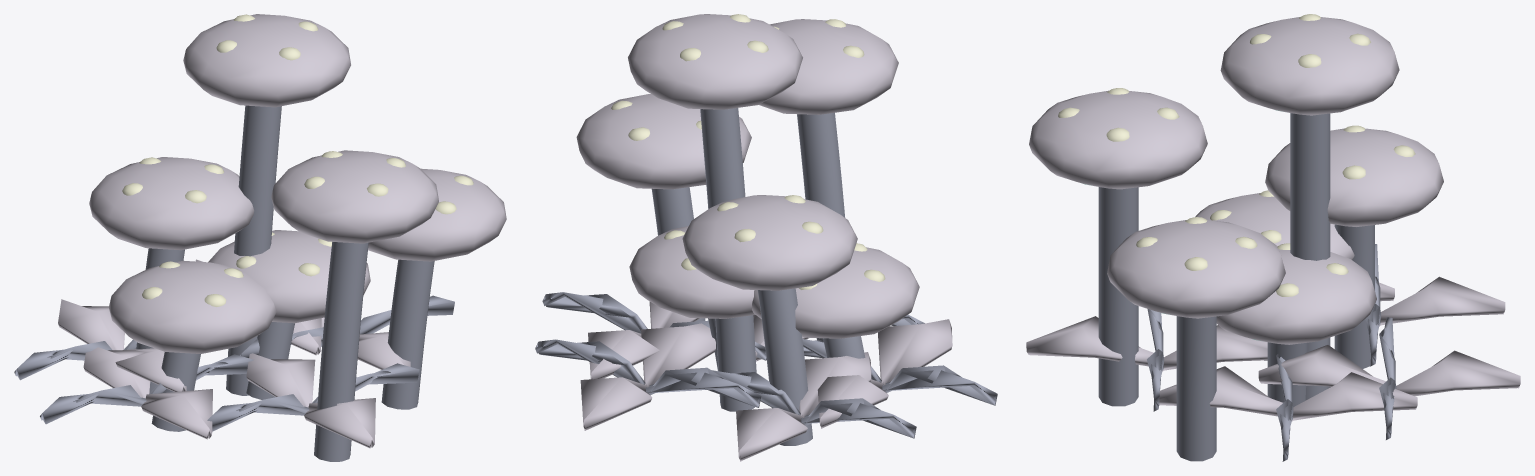
Rendered from bio_spore_fungus_05_far.glb.
3 renders of one model, left to right at view 1: azimuth 30°, elevation 25°; view 2: azimuth 150°, elevation 25°; view 3: azimuth 270°, elevation 25°, orthographic. The views are drawn at different scales.
Visible parts, largest first — view 1: Thick umbrella cap.002, Thick umbrella cap.003, Thick umbrella cap.004, Thick umbrella cap.001, Curved stipe.002, Thick umbrella cap.005, Thick umbrella cap, Curved stipe.003, Low buttress leaf.009, Curved stipe.005, Low buttress leaf.017, Low buttress leaf.005 (+14 smaller); view 2: Thick umbrella cap.003, Thick umbrella cap.001, Thick umbrella cap.005, Thick umbrella cap.002, Thick umbrella cap.004, Curved stipe.003, Thick umbrella cap, Low buttress leaf.013, Low buttress leaf.017, Low buttress leaf.005, Curved stipe.001, Low buttress leaf.012 (+9 smaller); view 3: Thick umbrella cap.002, Thick umbrella cap.003, Thick umbrella cap.005, Thick umbrella cap.001, Thick umbrella cap, Curved stipe.002, Curved stipe.003, Low buttress leaf.013, Curved stipe.005, Low buttress leaf.001, Low buttress leaf.009, Low buttress leaf.005 (+12 smaller).
Boxes of the visible parts, <box> form: Thick umbrella cap.002: <box>271,150,438,243</box>; Thick umbrella cap.003: <box>183,14,350,107</box>; Thick umbrella cap.004: <box>108,260,276,353</box>; Thick umbrella cap.001: <box>89,157,254,250</box>; Curved stipe.002: <box>314,242,368,461</box>; Thick umbrella cap.005: <box>368,168,506,261</box>; Thick umbrella cap: <box>208,230,370,323</box>; Curved stipe.003: <box>226,105,281,395</box>; Low buttress leaf.009: <box>246,353,375,448</box>; Curved stipe.005: <box>381,259,434,409</box>; Low buttress leaf.017: <box>83,343,212,439</box>; Low buttress leaf.005: <box>58,299,186,391</box>; Thick umbrella cap.003: <box>628,14,802,109</box>; Thick umbrella cap.001: <box>682,195,857,290</box>; Thick umbrella cap.005: <box>576,94,751,189</box>; Thick umbrella cap.002: <box>758,19,898,114</box>; Thick umbrella cap.004: <box>752,247,919,338</box>; Curved stipe.003: <box>700,108,756,411</box>; Thick umbrella cap: <box>629,226,755,318</box>; Low buttress leaf.013: <box>580,323,715,430</box>; Low buttress leaf.017: <box>817,319,952,428</box>; Low buttress leaf.005: <box>736,352,871,461</box>; Curved stipe.001: <box>757,288,812,445</box>; Low buttress leaf.012: <box>535,339,761,407</box>; Thick umbrella cap.002: <box>1029,90,1207,189</box>; Thick umbrella cap.003: <box>1220,17,1399,115</box>; Thick umbrella cap.005: <box>1107,220,1285,318</box>; Thick umbrella cap.001: <box>1265,128,1443,226</box>; Thick umbrella cap: <box>1216,249,1376,344</box>; Curved stipe.002: <box>1098,187,1138,406</box>; Curved stipe.003: <box>1290,113,1330,400</box>; Low buttress leaf.013: <box>1258,345,1520,396</box>; Curved stipe.005: <box>1176,316,1216,461</box>; Low buttress leaf.001: <box>1159,366,1417,421</box>; Low buttress leaf.009: <box>1026,316,1267,371</box>; Low buttress leaf.005: <box>1379,276,1505,326</box>.
Bounding box in the file's own units: 2.22 × 1.78 × 2.09.
